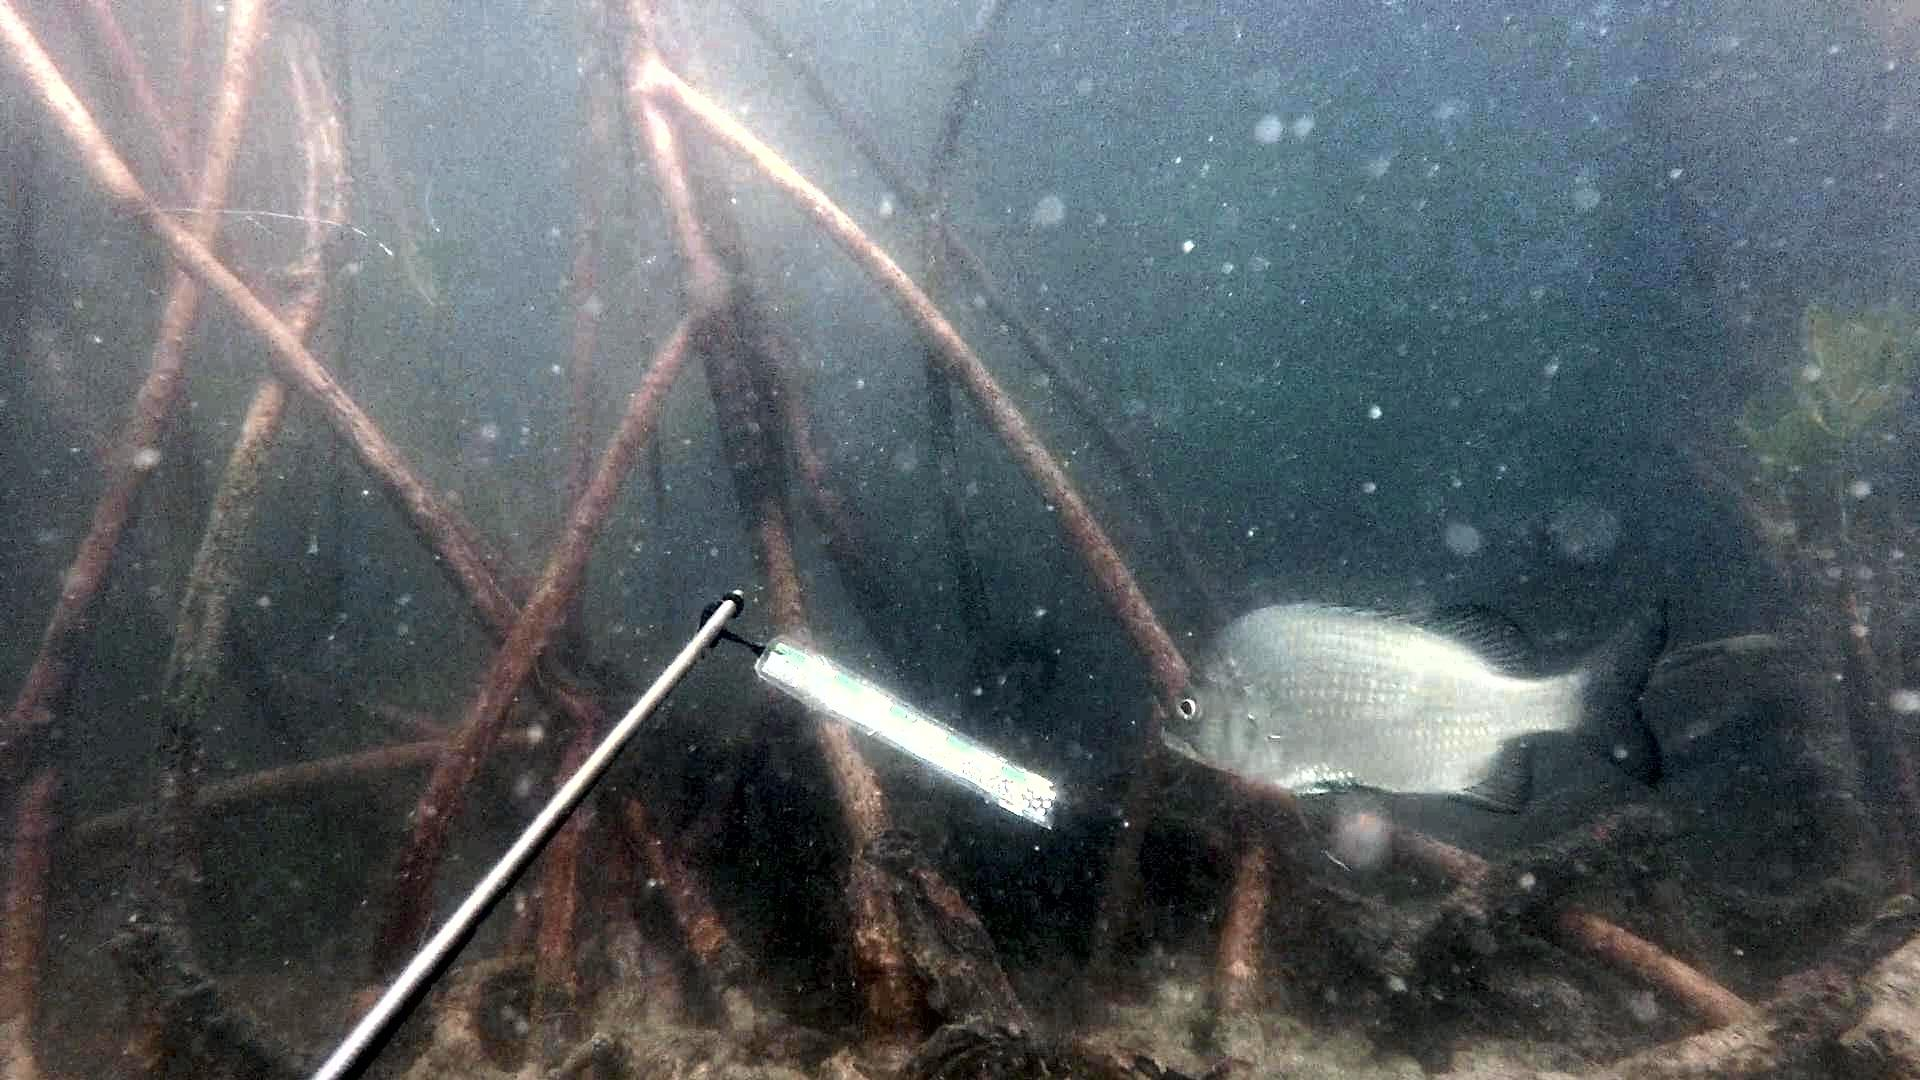acanthopagrus palmaris: (1151, 589, 1677, 876)
